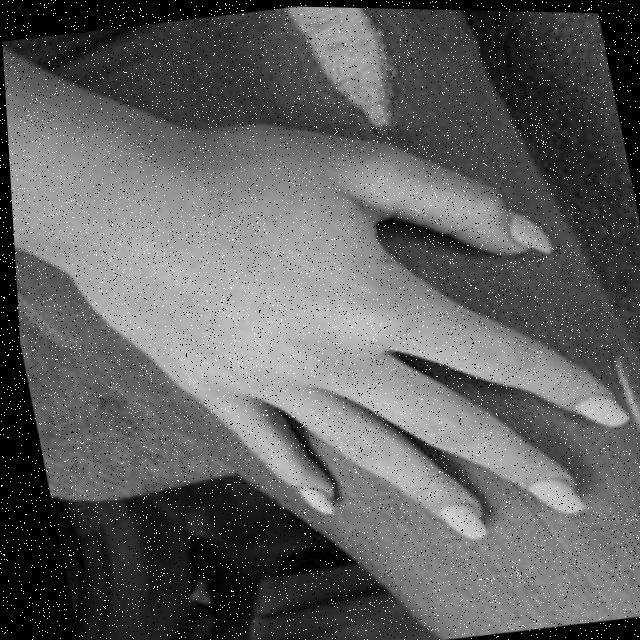hand: (38, 75, 640, 591)
